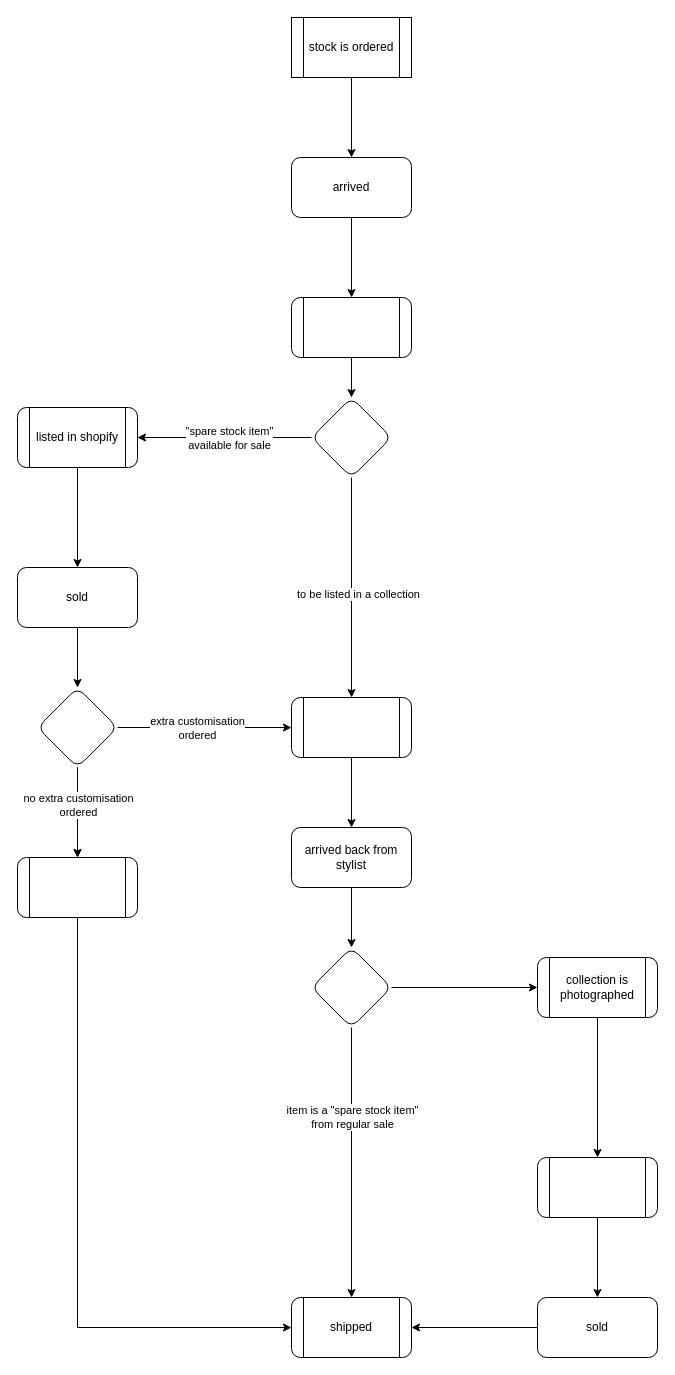
This 675x1375 diagram has some shape labels left out. Here are the shapes that lost their labels. From the top down, the centre of each, then its label:
[351,327]: quality control is completed
[351,727]: assigned to third party stylist
[77,887]: styled in house
[597,1187]: shopify listing is created
